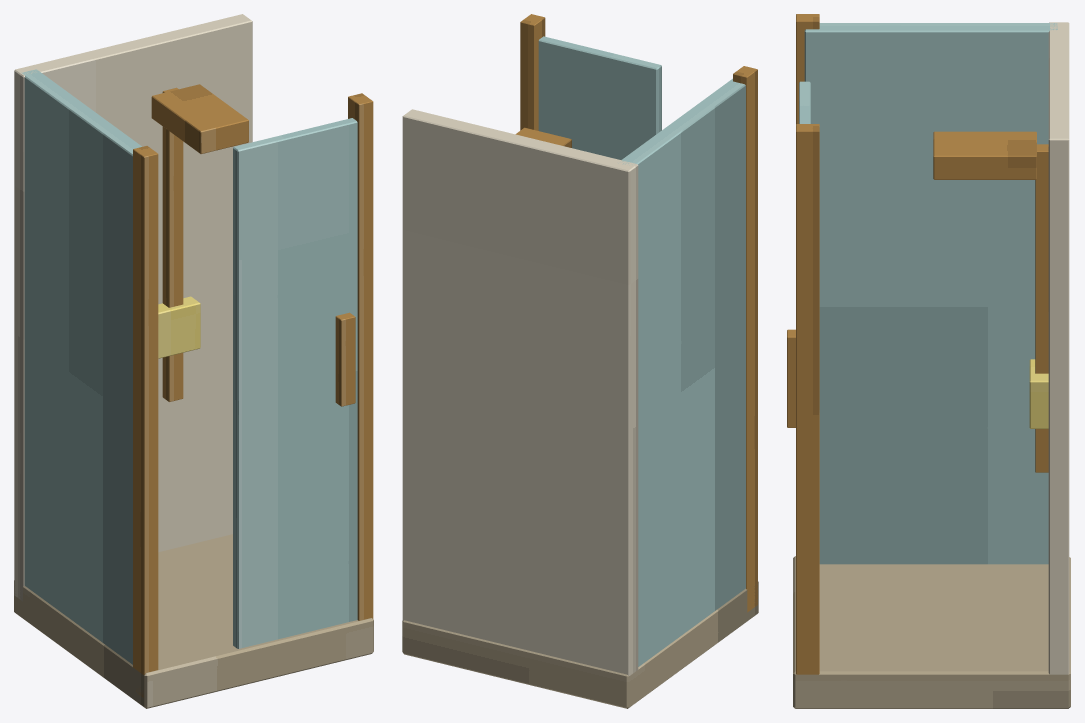
The model's file is house_shower_enclosure.glb.
3 views of the same model, side by side, from view 1: azimuth 30°, elevation 25°; view 2: azimuth 150°, elevation 25°; view 3: azimuth 270°, elevation 25° (orthographic). The views are drawn at different scales.
Parts seen in each view (by area): view 1: HouseShowerDoor, HouseShowerSide, HouseShowerBack, HouseShowerPan, HouseShowerPost-0.44, HouseShowerPost0.44, HouseShowerRiser, HouseShowerHead, HouseShowerControl, HouseShowerHandle; view 2: HouseShowerBack, HouseShowerSide, HouseShowerPan, HouseShowerDoor, HouseShowerPost-0.44, HouseShowerPost0.44; view 3: HouseShowerSide, HouseShowerPan, HouseShowerBack, HouseShowerPost0.44, HouseShowerHead, HouseShowerRiser, HouseShowerControl, HouseShowerPost-0.44, HouseShowerHandle, HouseShowerDoor.
Part boxes in pixels (box(x1,y1,x2,y2)): HouseShowerDoor: box(233, 118, 357, 648); HouseShowerSide: box(21, 69, 141, 664); HouseShowerBack: box(14, 14, 252, 601); HouseShowerPan: box(14, 534, 373, 708); HouseShowerPost-0.44: box(133, 146, 158, 697); HouseShowerPost0.44: box(348, 93, 373, 620); HouseShowerRiser: box(162, 87, 183, 401); HouseShowerHead: box(151, 84, 248, 153); HouseShowerControl: box(158, 296, 200, 358); HouseShowerHandle: box(335, 312, 355, 406); HouseShowerBack: box(402, 109, 638, 675); HouseShowerSide: box(618, 78, 745, 666); HouseShowerPan: box(402, 581, 758, 708); HouseShowerDoor: box(538, 36, 661, 159); HouseShowerPost-0.44: box(733, 66, 757, 612); HouseShowerPost0.44: box(520, 14, 545, 130); HouseShowerSide: box(804, 23, 1057, 564); HouseShowerPan: box(793, 556, 1070, 708); HouseShowerBack: box(1048, 22, 1069, 674); HouseShowerPost0.44: box(796, 124, 819, 674); HouseShowerHead: box(933, 131, 1036, 179); HouseShowerRiser: box(1035, 144, 1048, 472); HouseShowerControl: box(1029, 359, 1048, 428); HouseShowerPost-0.44: box(796, 14, 819, 123); HouseShowerHandle: box(787, 329, 795, 427); HouseShowerDoor: box(799, 81, 810, 123).
Bounding box in the file's own units: 0.94 × 2.16 × 0.96.
1 material, 1 textured.
